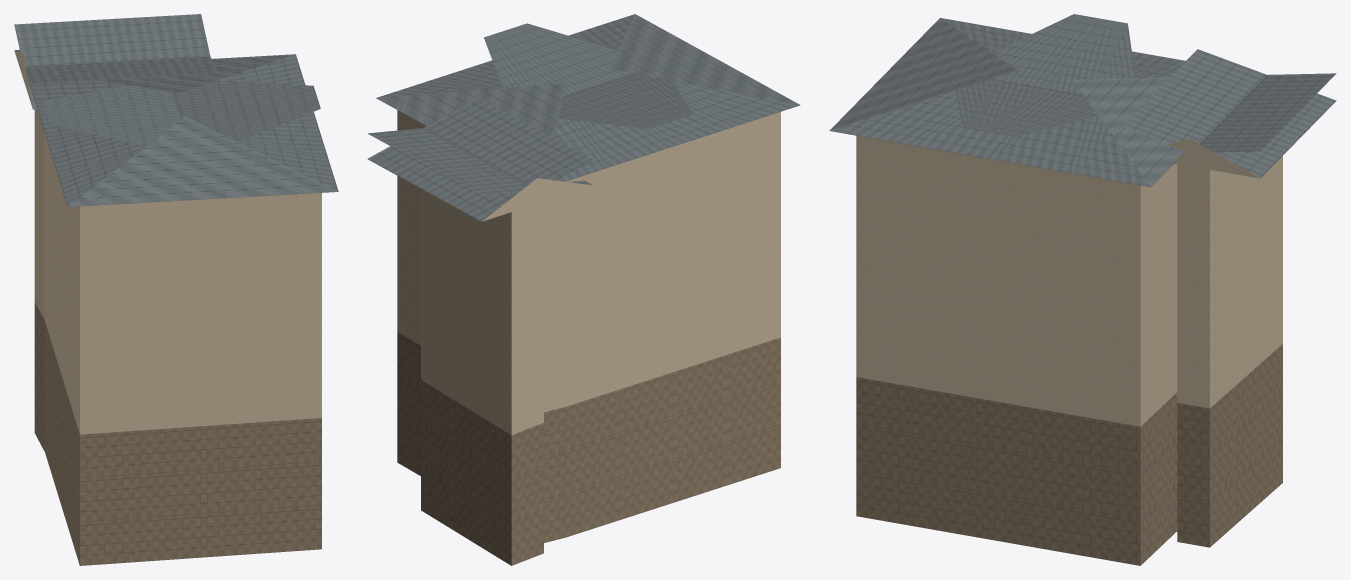
File: bld_c5_5_498.gltf
3 renders of one model, left to right at view 1: azimuth 30°, elevation 25°; view 2: azimuth 150°, elevation 25°; view 3: azimuth 270°, elevation 25°, orthographic. The views are drawn at different scales.
Visible parts, largest first — view 1: bld_c5_5_498; view 2: bld_c5_5_498; view 3: bld_c5_5_498.
Part boxes in pixels (x1,y1,x2,y2): bld_c5_5_498: (14,14,338,565); bld_c5_5_498: (367,14,800,565); bld_c5_5_498: (829,14,1336,565).
Size of the model in its own units: 13.32 by 15.6 by 16.86.
Materials: 4 (4 with a texture image).
